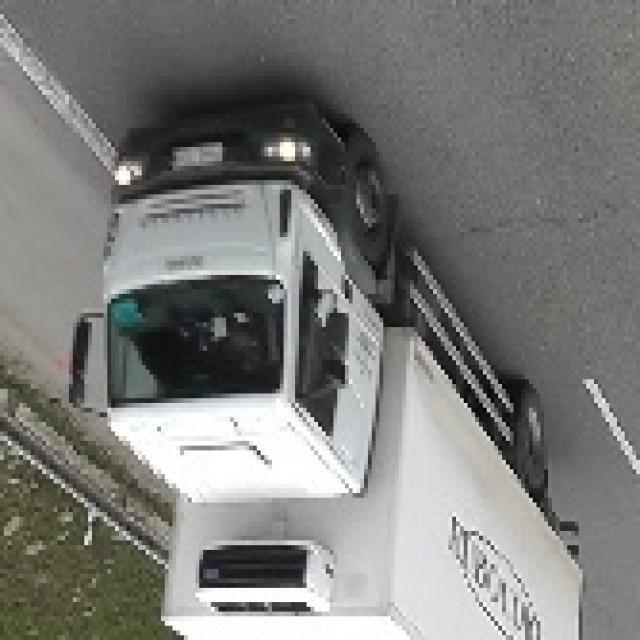truck: (73, 100, 591, 640)
